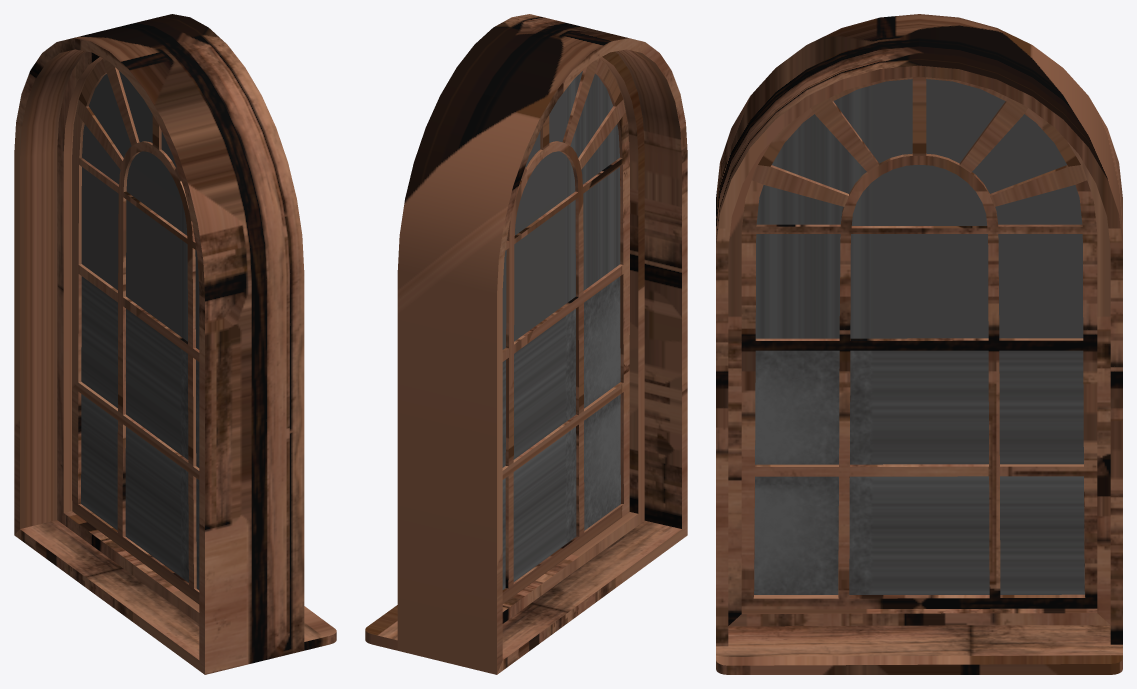
Rendered from Window1.fbx.
The picture shows the model from 3 angles, left to right: view 1: azimuth 30°, elevation 25°; view 2: azimuth 150°, elevation 25°; view 3: azimuth 270°, elevation 25°; orthographic projection. The views are drawn at different scales.
Visible parts, largest first — view 1: Window_round; view 2: Window_round; view 3: Window_round.
Boxes of the visible parts, bbox=[...] form: Window_round: bbox=[14, 14, 336, 674]; Window_round: bbox=[365, 14, 687, 674]; Window_round: bbox=[716, 14, 1122, 674].
Bounding box in the file's own units: 0.4118 × 1 × 1.6.
Materials: 2 (2 with a texture image).
